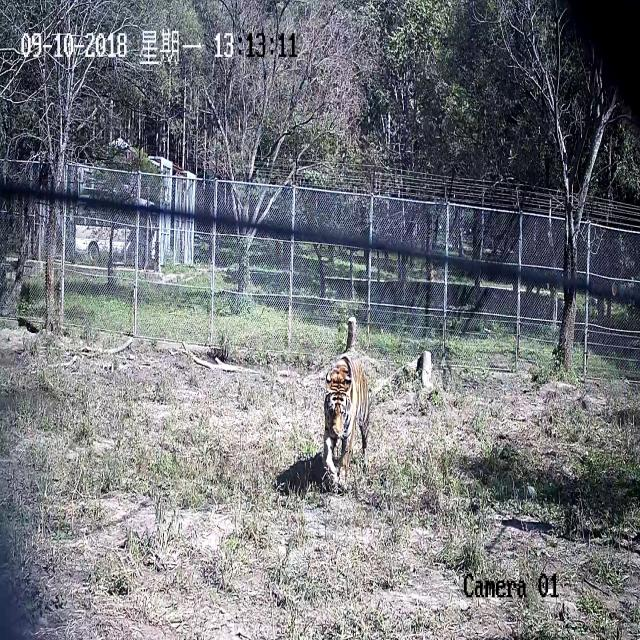Tiger: (305, 304, 416, 552)
